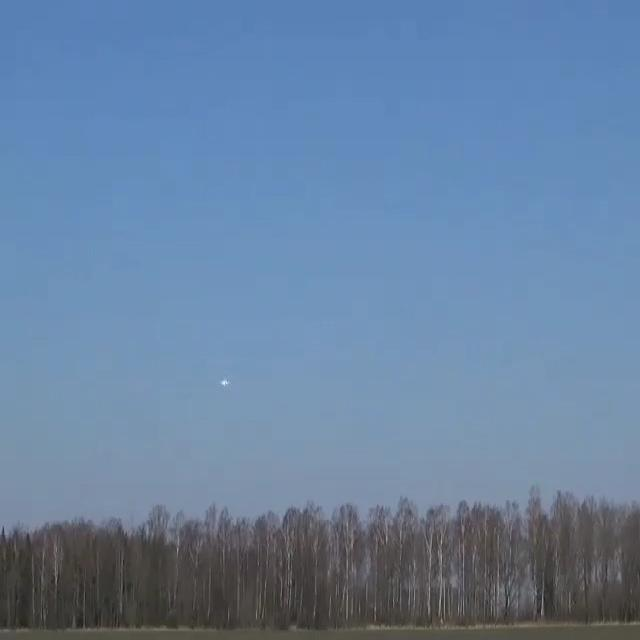drone: (221, 379, 229, 386)
